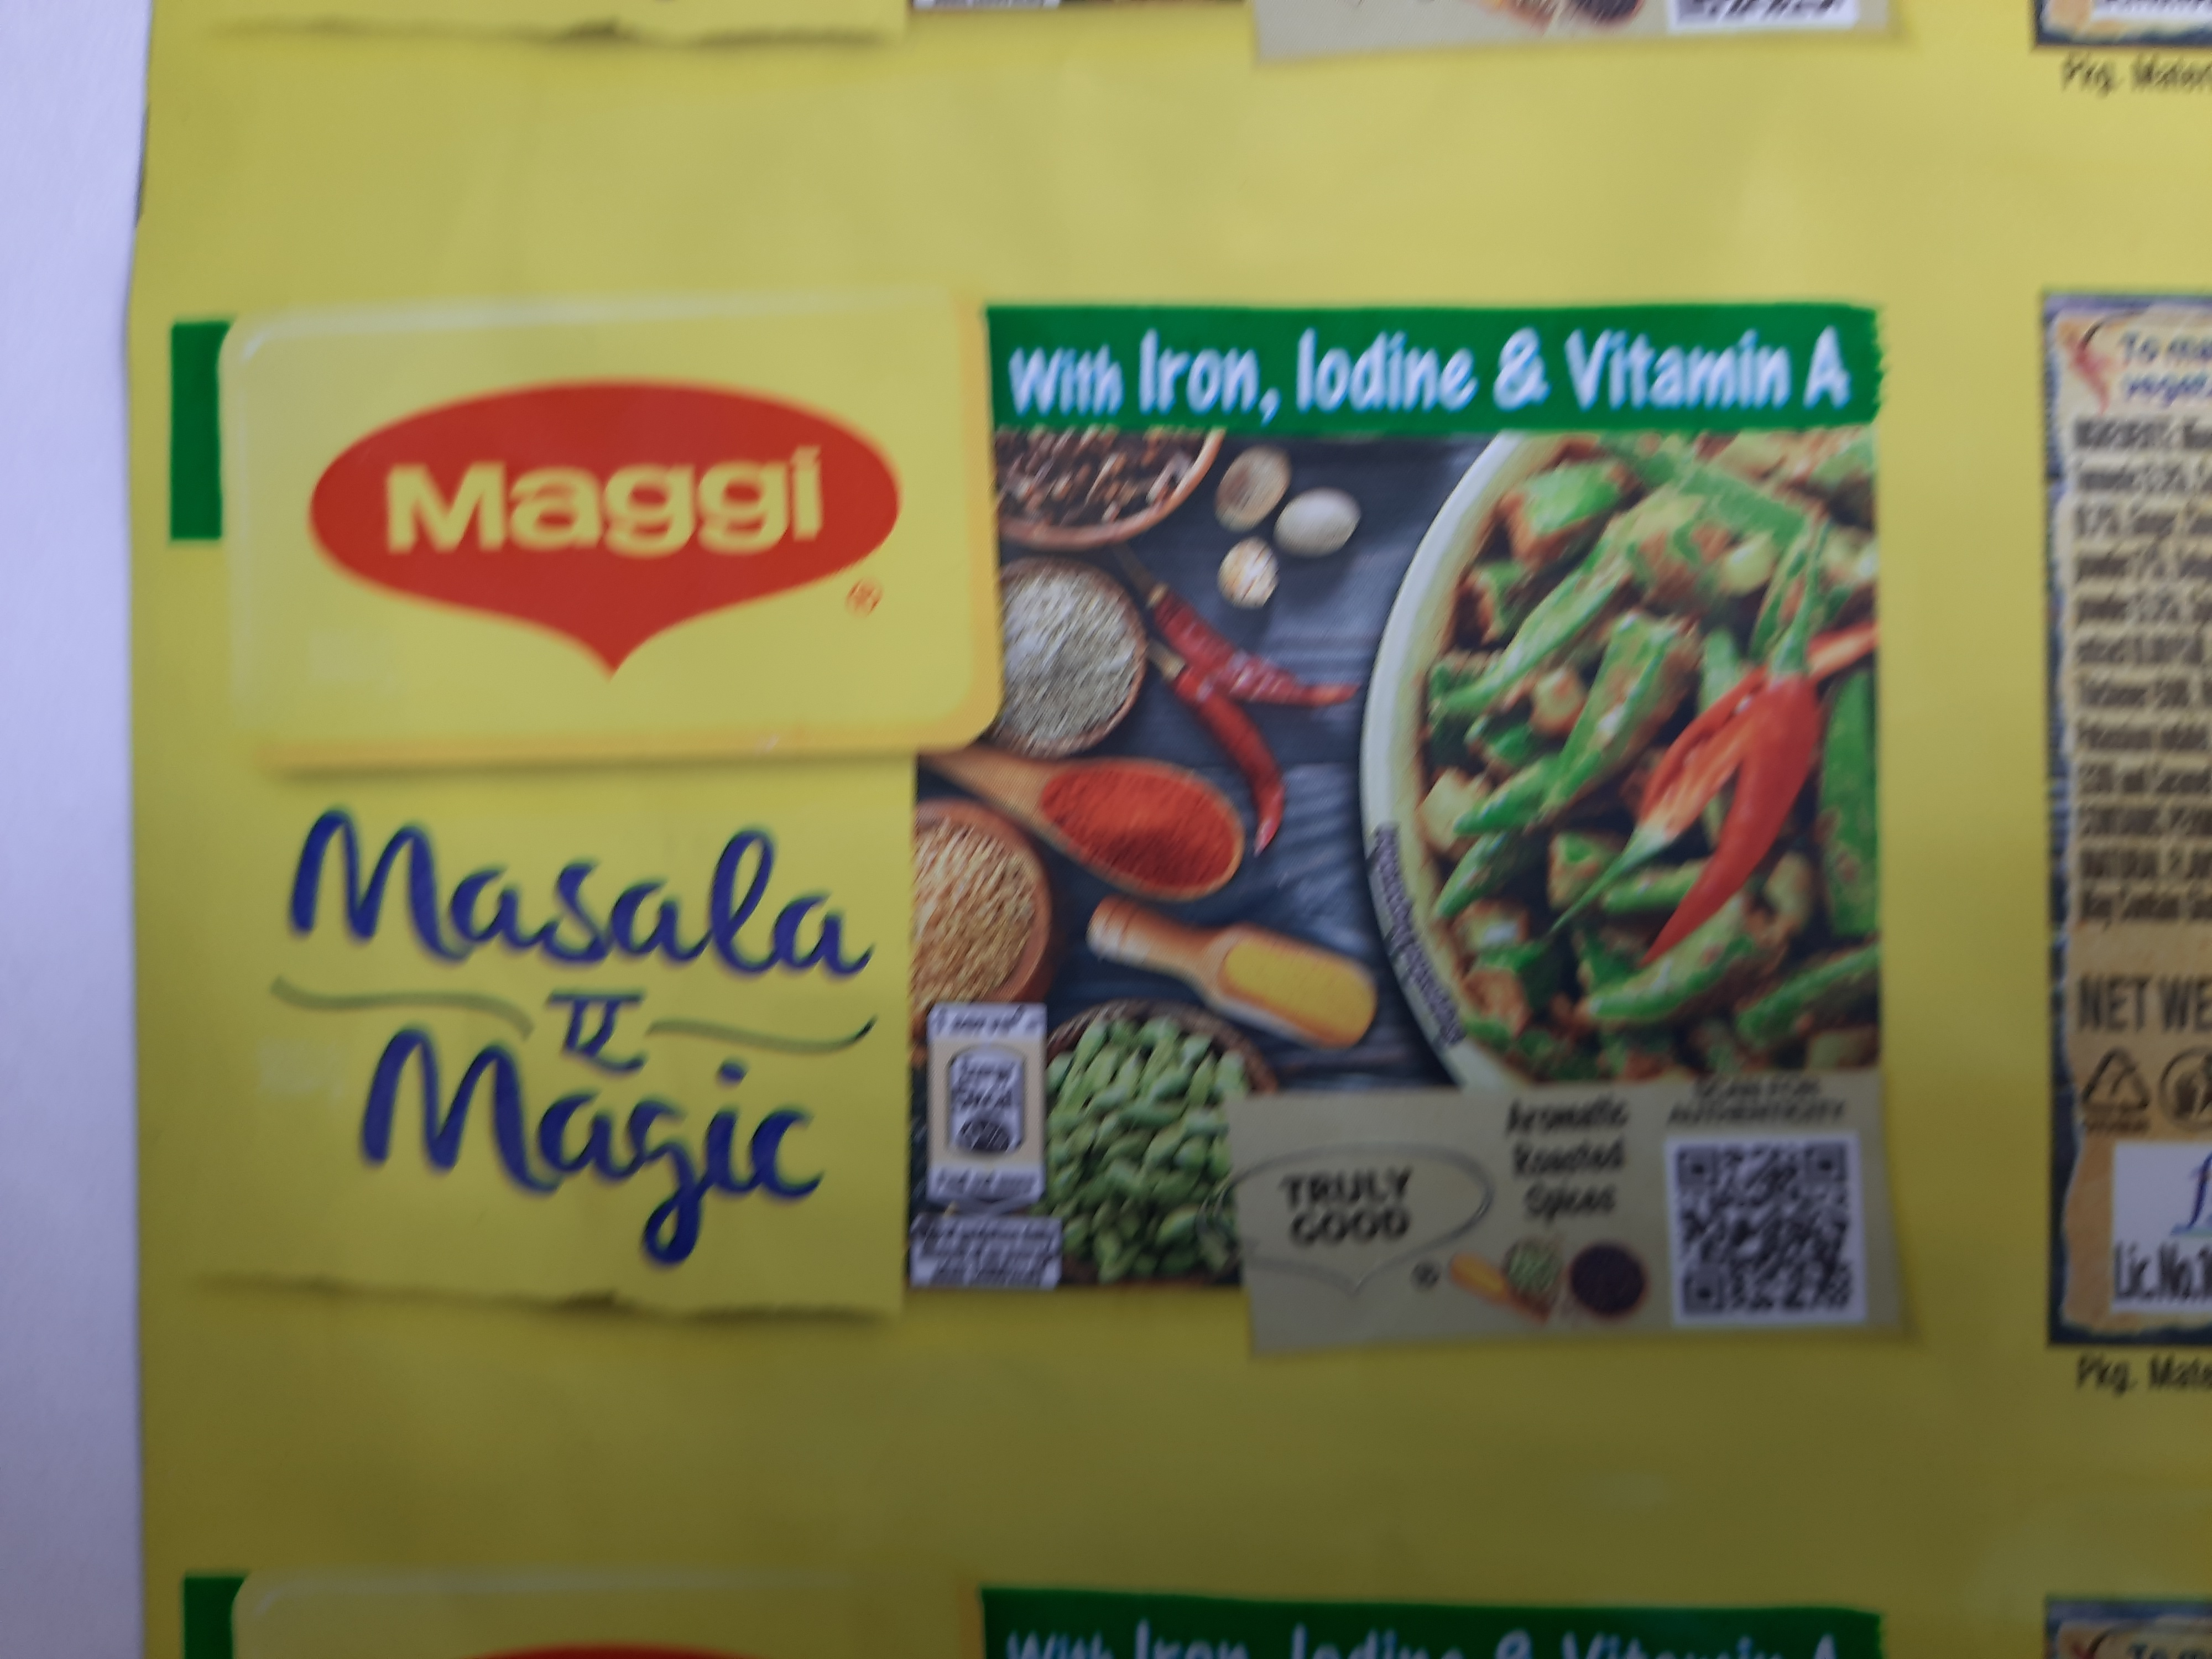qr_code: (1665, 1136, 1869, 1331)
